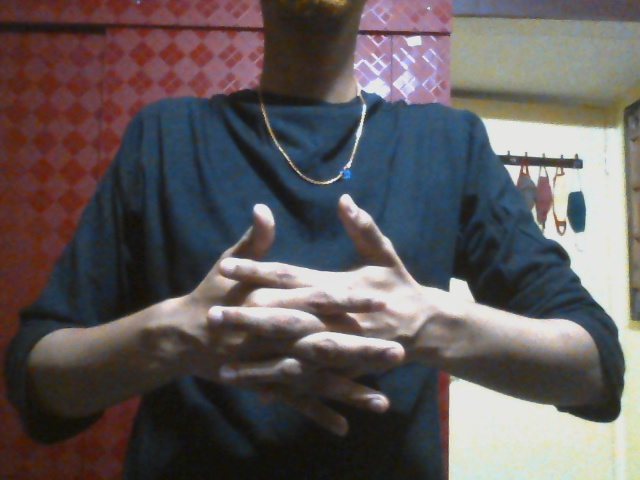W: (181, 191, 433, 444)
